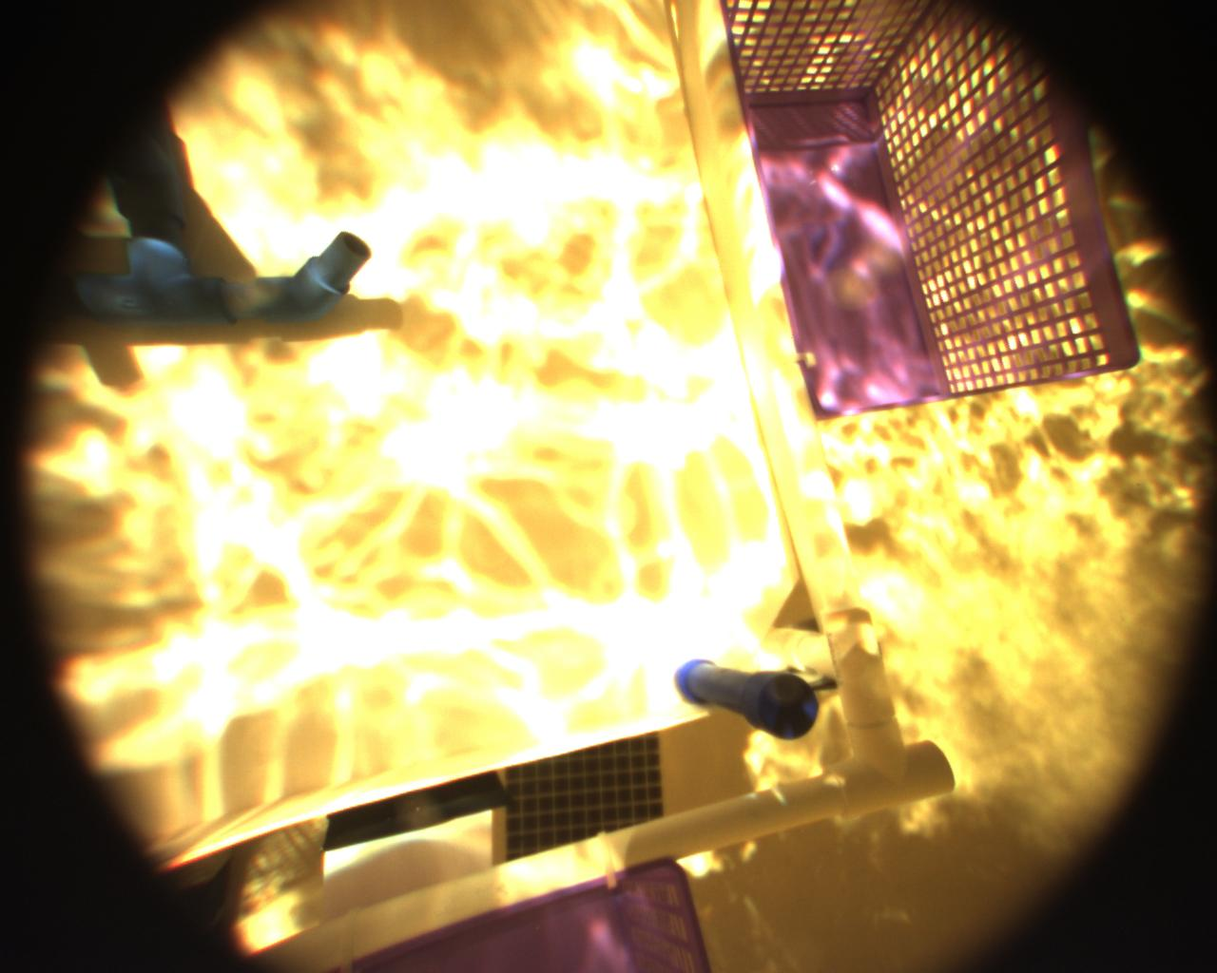coral: (30, 86, 400, 345), (680, 657, 850, 757)
coral-box-top: (0, 0, 713, 852)
